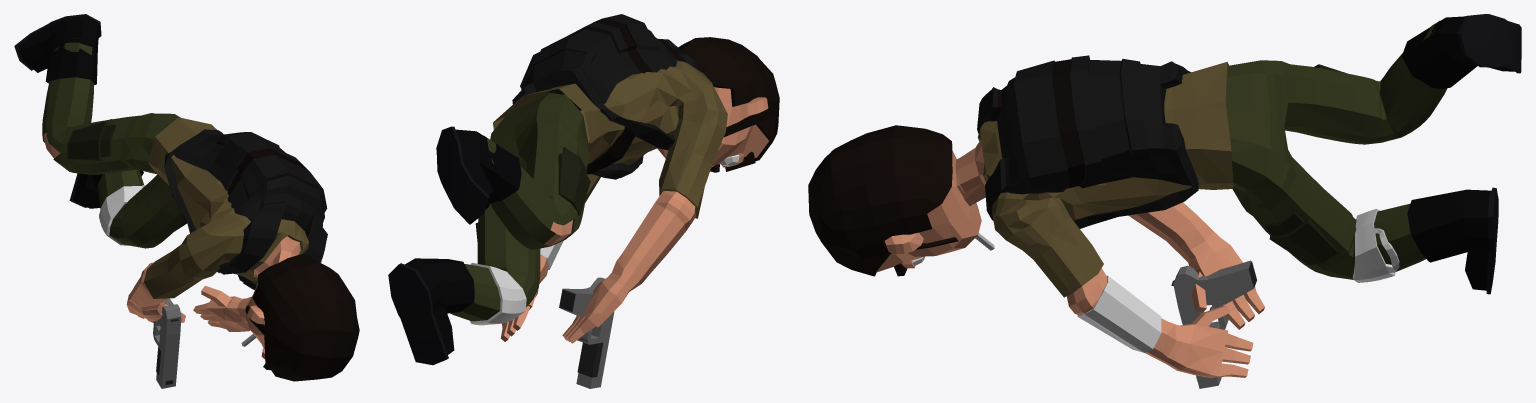
File: frame_0047.obj
3 views of the same model, side by side, from view 1: azimuth 30°, elevation 25°; view 2: azimuth 150°, elevation 25°; view 3: azimuth 270°, elevation 25° (orthographic). The views are drawn at different scales.
Parts seen in each view (by area): view 1: Body, Gun; view 2: Body, Gun; view 3: Body, Gun.
Boxes of the visible parts, left/top/right/bottom form: Body: left=14, top=14, right=359, bottom=381; Gun: left=153, top=298, right=181, bottom=388; Body: left=388, top=14, right=779, bottom=365; Gun: left=559, top=277, right=614, bottom=388; Body: left=808, top=14, right=1521, bottom=378; Gun: left=1171, top=260, right=1256, bottom=388.
Size of the model in its own units: 1.25 by 2.3 by 3.89.
